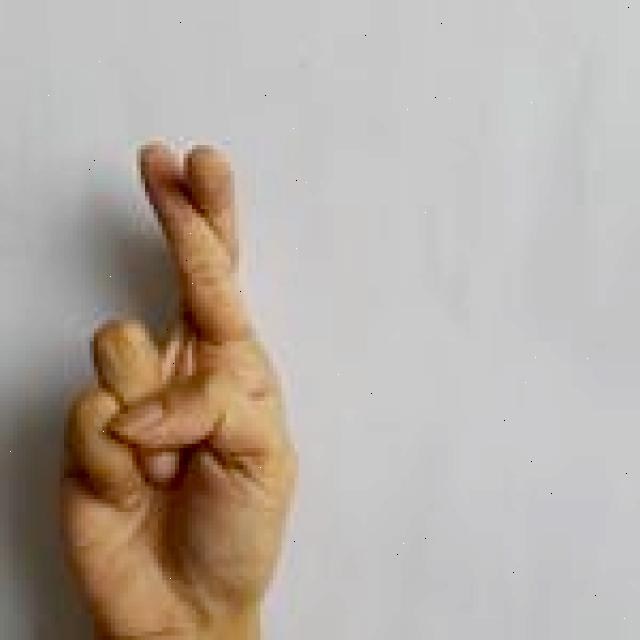R: (54, 132, 304, 640)
